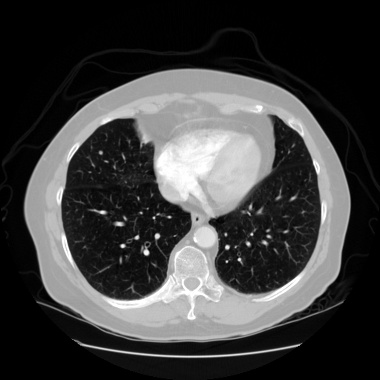PN: (98, 150, 102, 154)
